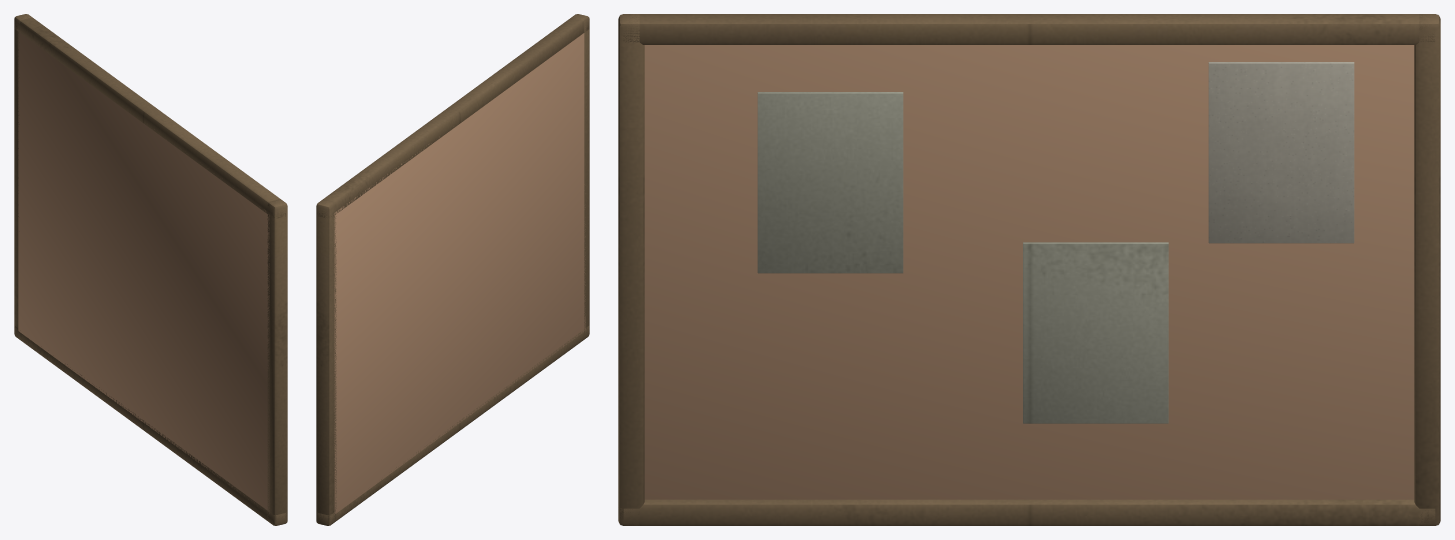
File: outpost_corkboard.glb
3 views of the same model, side by side, from view 1: azimuth 30°, elevation 25°; view 2: azimuth 150°, elevation 25°; view 3: azimuth 270°, elevation 25° (orthographic). The views are drawn at different scales.
Parts seen in each view (by area): view 1: cork, frame_s, frame_t, frame_b, frame_s.001; view 2: cork, frame_t, frame_s.001, frame_b, frame_s; view 3: cork, paper, paper.002, paper.001, frame_t, frame_b, frame_s.001, frame_s.
Boxes of the visible parts, x1,y1,x2,y2 form: cork: [18, 29, 269, 513]; frame_s: [267, 199, 287, 525]; frame_t: [14, 16, 286, 218]; frame_b: [14, 326, 286, 525]; frame_s.001: [14, 14, 32, 339]; cork: [334, 33, 585, 514]; frame_t: [317, 15, 589, 217]; frame_s.001: [316, 199, 336, 525]; frame_b: [317, 326, 589, 525]; frame_s: [571, 14, 589, 337]; cork: [644, 45, 1414, 499]; paper: [757, 92, 903, 273]; paper.002: [1208, 62, 1354, 243]; paper.001: [1023, 242, 1168, 423]; frame_t: [618, 14, 1435, 44]; frame_b: [620, 499, 1437, 525]; frame_s.001: [1414, 14, 1440, 525]; frame_s: [618, 14, 644, 525].
Size of the model in its own units: 0.04 by 0.84 by 1.24.
Materials: 4 (3 with a texture image).
